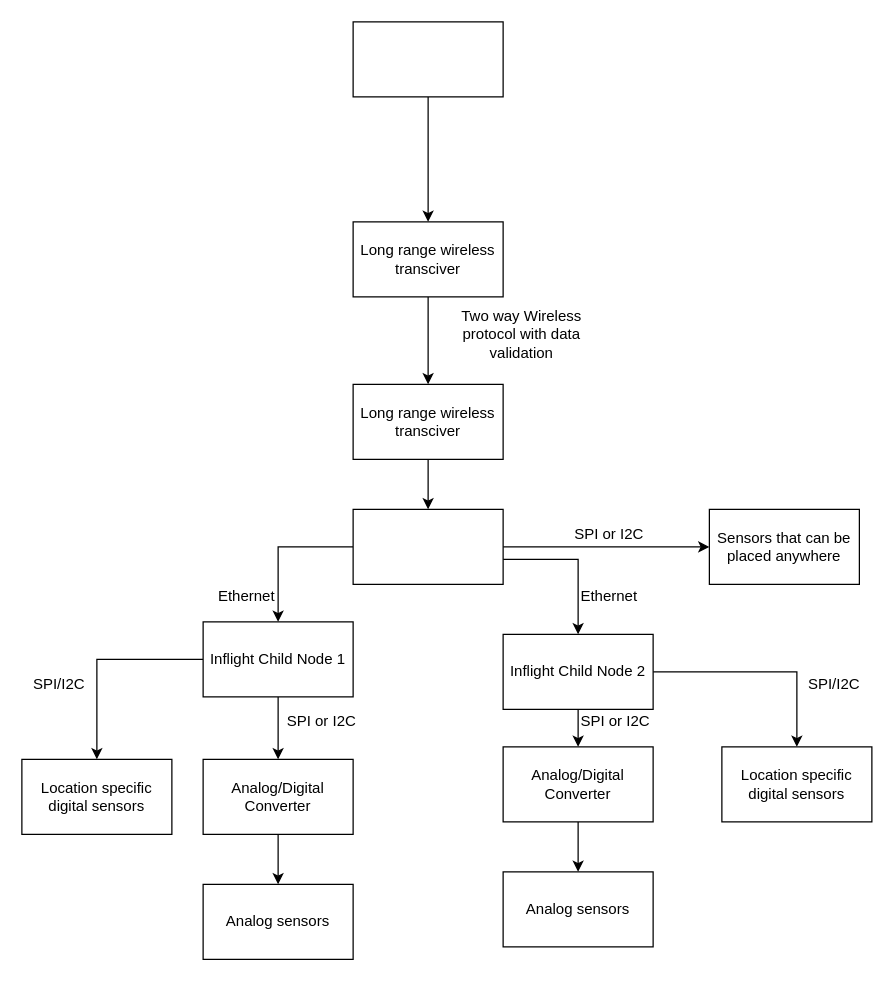
Some shapes in this 894 by 981 pixel diagram are drawn without their labels. The shapes that lost their labels are listed below. From the top down, each one's centre as x and y in pixels, then its label:
point 427,59: Ground Node
point 427,546: Inflight Parent Node
